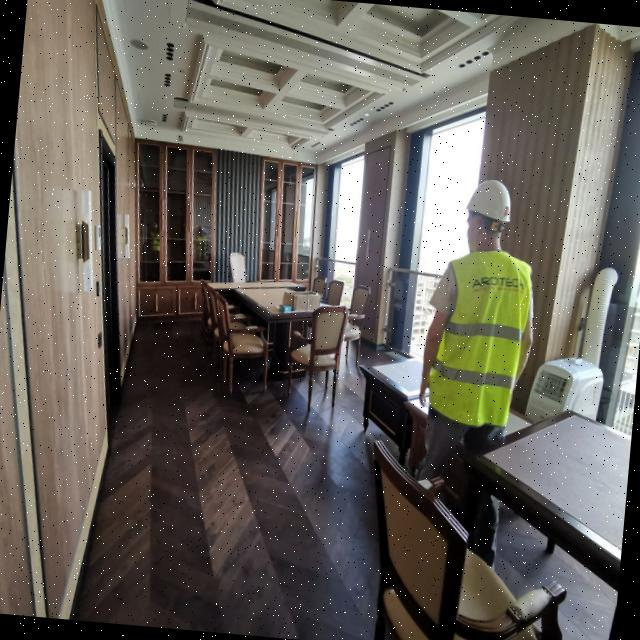Helmet: (464, 176, 516, 256)
